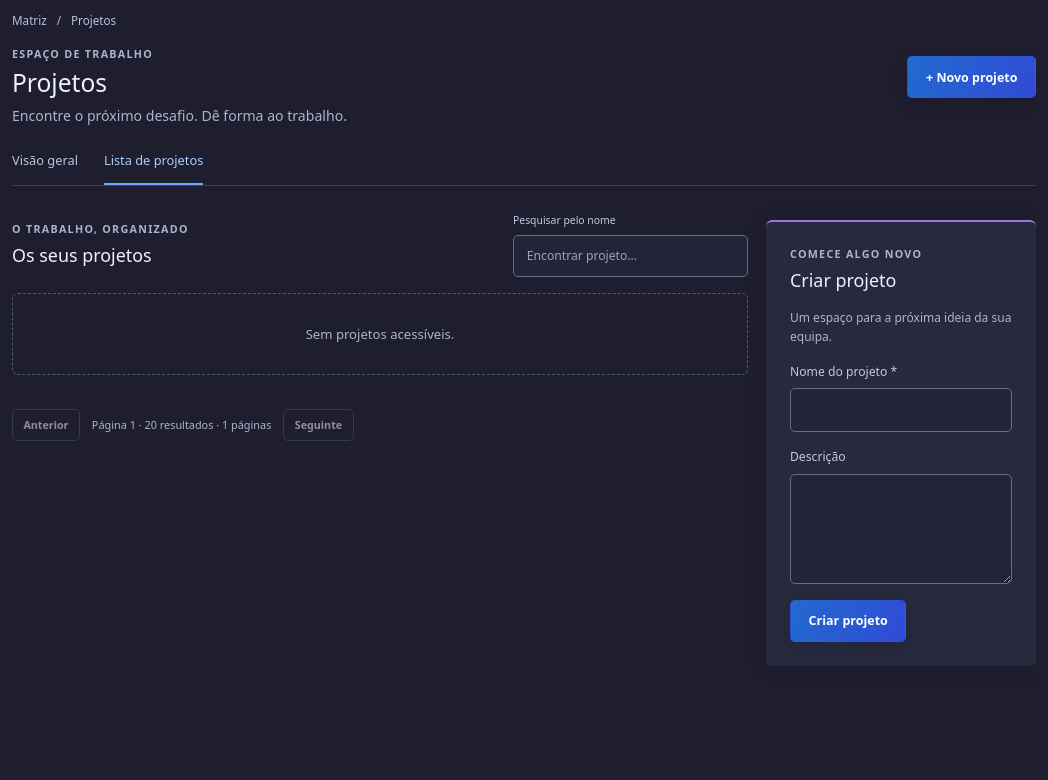
Test: Criação de tarefas › Criação de projetos › apresenta o projeto criado além da primeira página
Expected: the text "Página 1 · 20 resultados · 1 páginas" is shown, [92, 417, 271, 434]
Type "Projeto 21" into the field labelled "Nome do projeto *". click: x=901, y=410
box: [790, 388, 1012, 432]
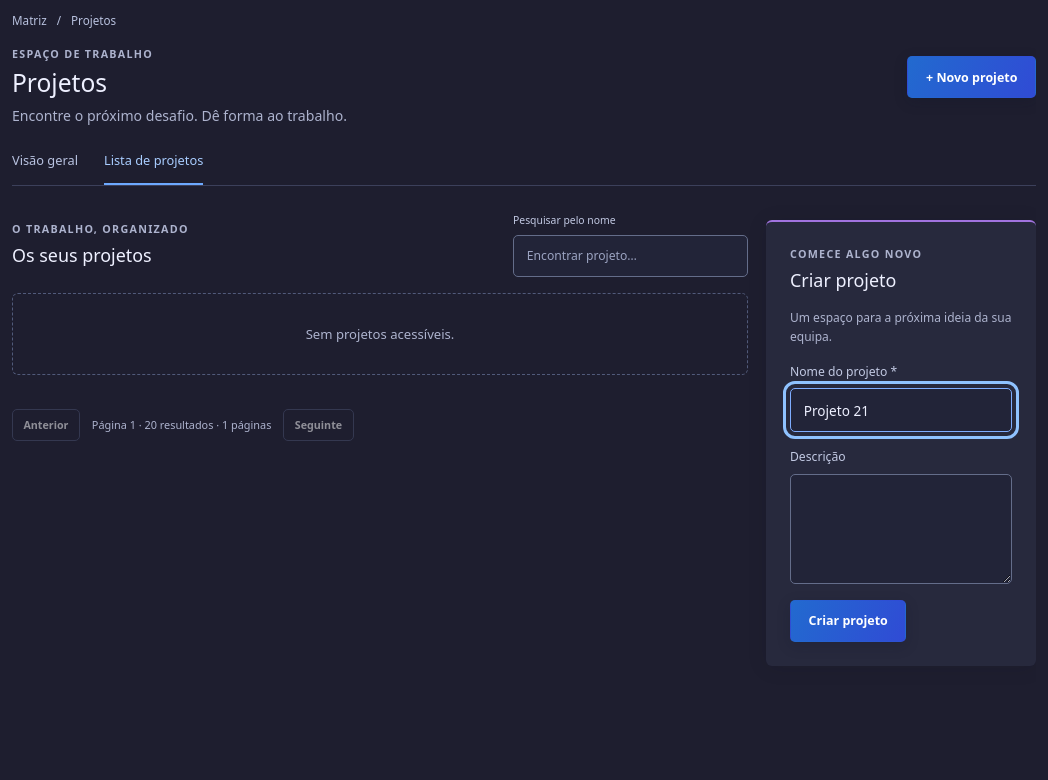
Click the button "Criar projeto". click: x=848, y=621
box: [790, 600, 906, 642]
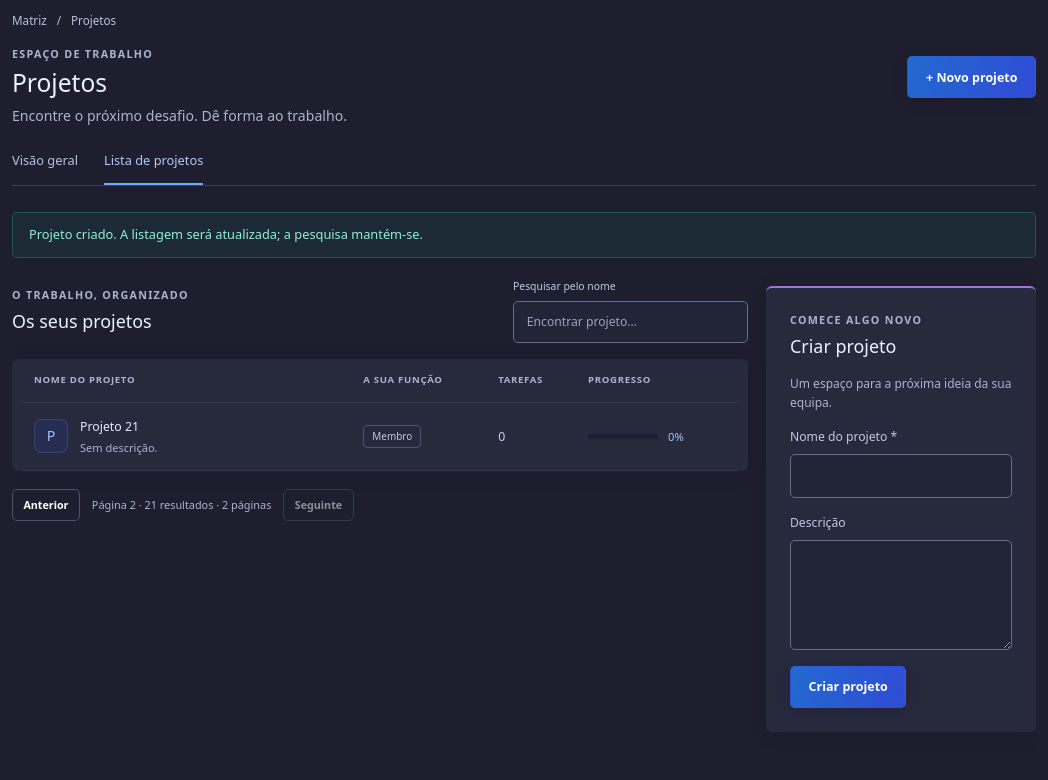
Result: the link "Projeto 21" is shown at [80, 418, 139, 435]
Result: the text "Página 2 · 21 resultados · 2 páginas" is shown at [92, 496, 271, 513]
